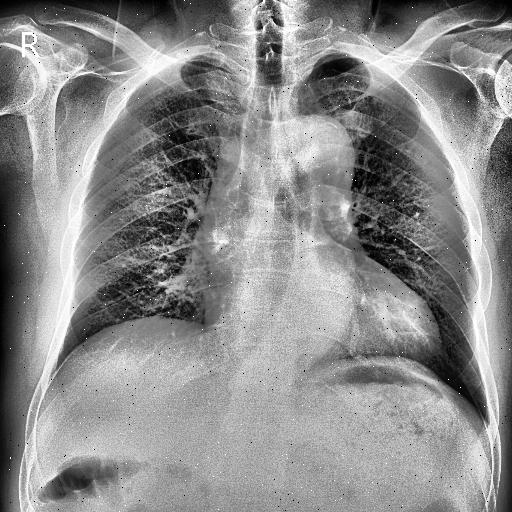0- Aortic enlargement: (279, 114, 356, 208), (279, 114, 355, 192), (274, 118, 356, 179)
3- Cardiomegaly: (200, 266, 440, 362), (206, 287, 440, 385), (203, 294, 442, 364)
